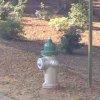a fire hydrant: (37, 38, 63, 90)
